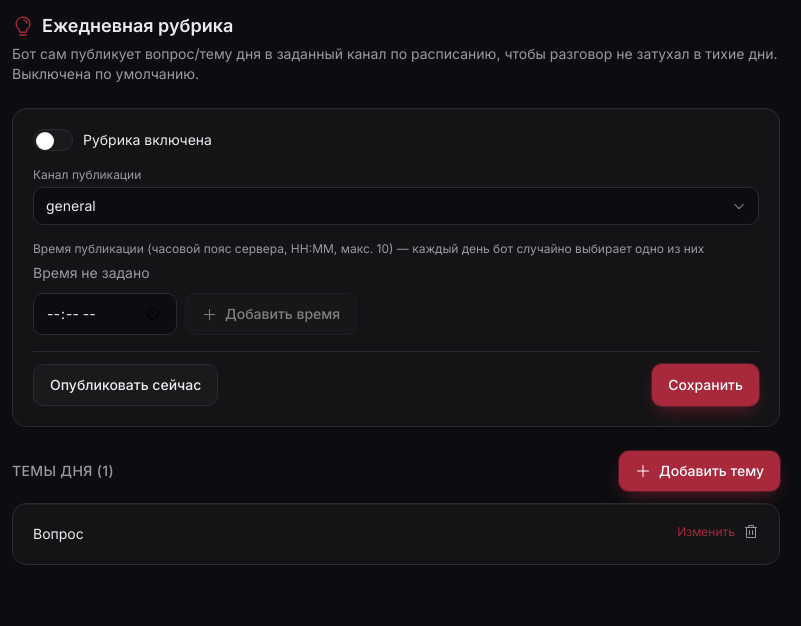
Test: DailyTopicPage › posts the topic now and shows a confirmation
The width and height of the screenshot is (801, 626).
Click the button "Опубликовать сейчас" at (126, 385), box [33,364,218,406]
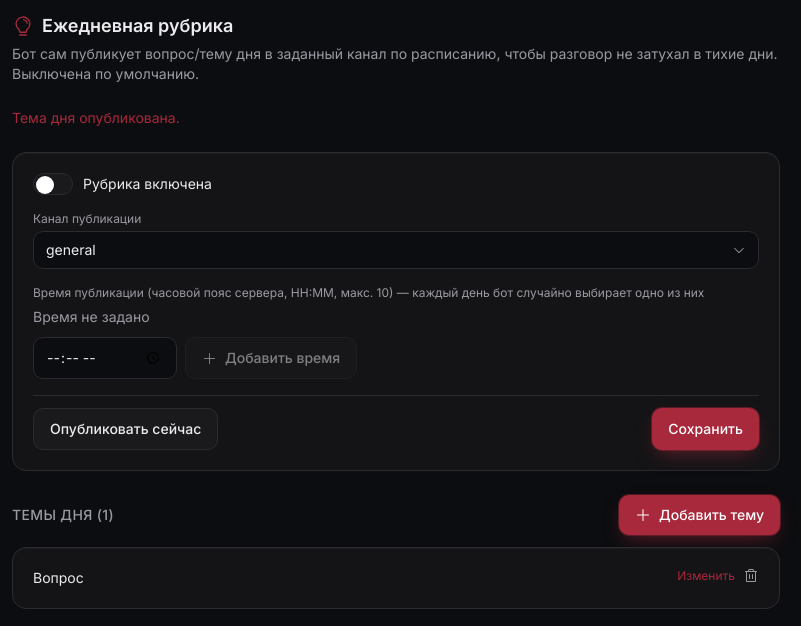
Result: the text "Тема дня опубликована." is shown at [12,109,180,126]
